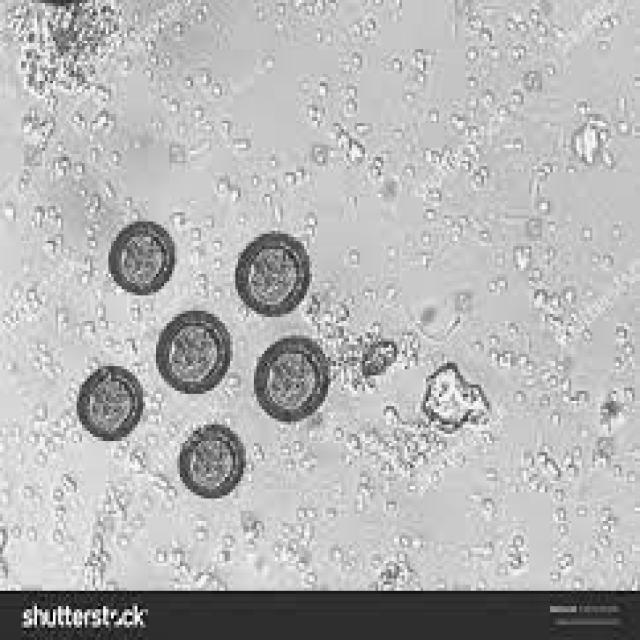Taenia Sp: (232, 221, 314, 314), (251, 331, 331, 423), (155, 308, 234, 397), (73, 360, 147, 443), (174, 422, 248, 504), (104, 217, 178, 297)
